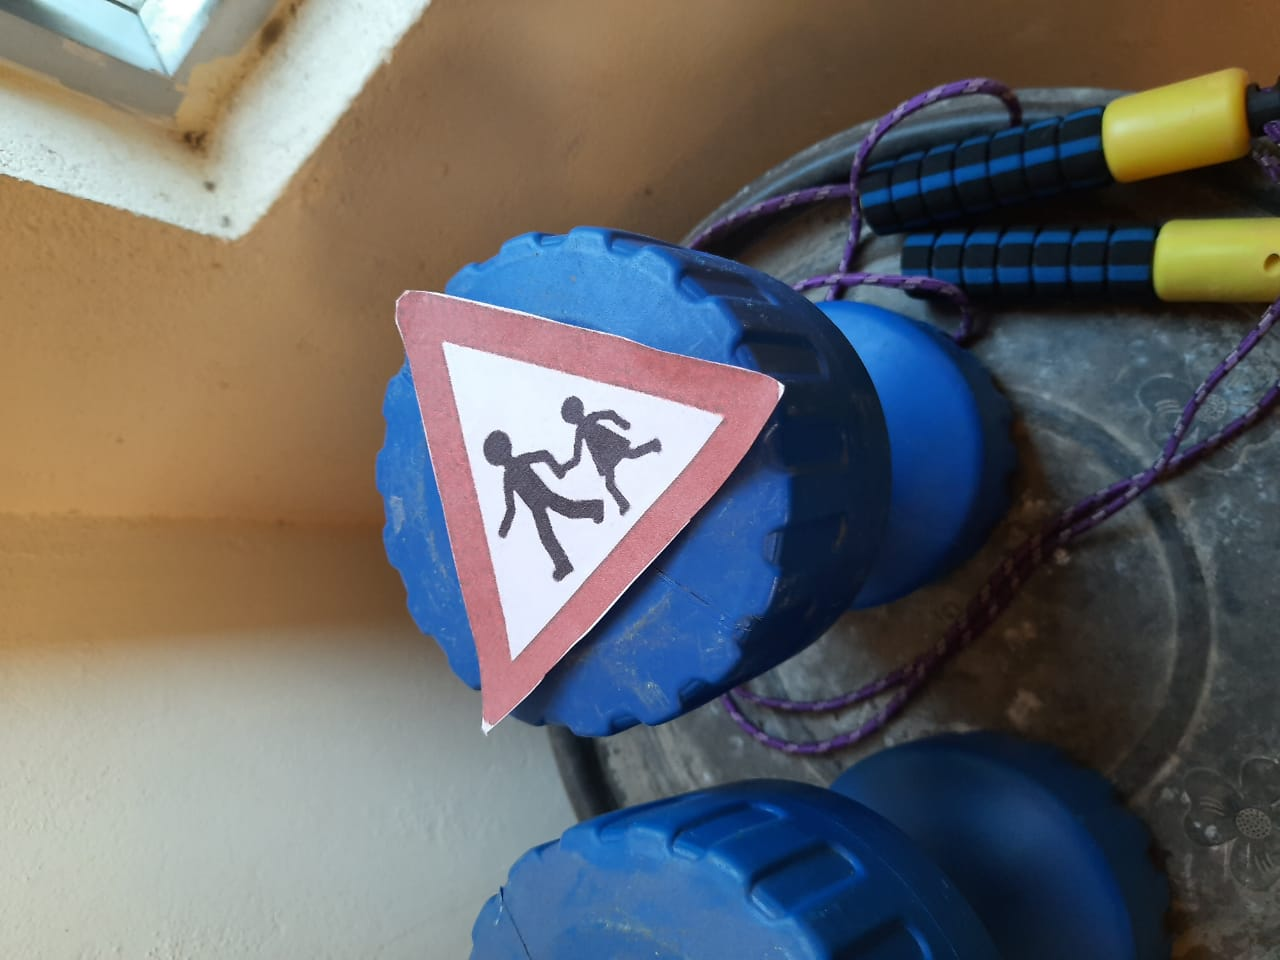SCHOOL ZONE: (364, 270, 807, 710)
